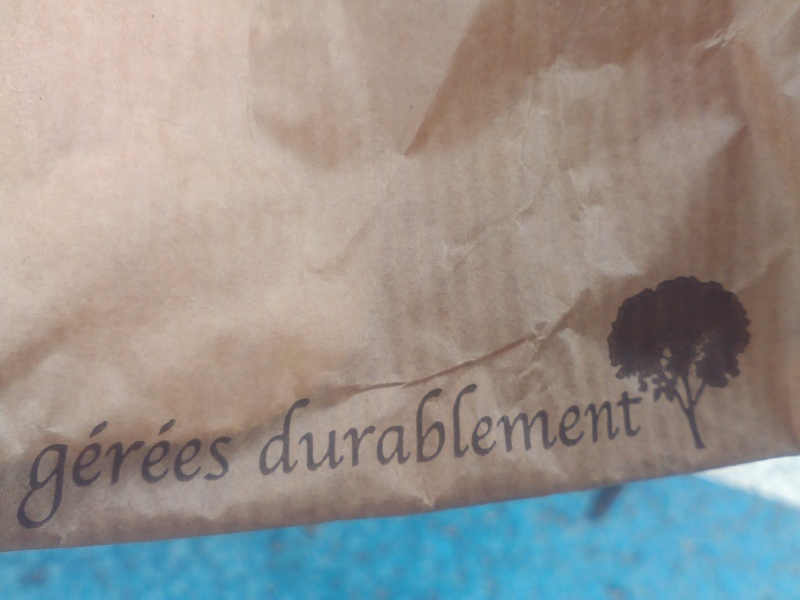text: (49, 415, 64, 533), (65, 415, 80, 533), (81, 415, 96, 533), (97, 415, 112, 533), (113, 415, 128, 533), (129, 415, 144, 533), (145, 415, 160, 533), (161, 415, 176, 533), (177, 415, 192, 533), (193, 415, 208, 533), (209, 415, 224, 533), (273, 368, 288, 483), (289, 368, 304, 483), (305, 368, 320, 483), (321, 368, 336, 483), (337, 368, 352, 483), (353, 368, 368, 483), (369, 368, 384, 483), (385, 368, 400, 483), (401, 368, 416, 483), (417, 368, 432, 483), (433, 368, 448, 483), (449, 368, 464, 483), (465, 368, 480, 483), (481, 368, 496, 483), (497, 368, 512, 483), (513, 368, 528, 483), (529, 368, 544, 483), (545, 368, 560, 483), (561, 368, 576, 483), (577, 368, 592, 483), (593, 368, 608, 483), (609, 368, 624, 483), (625, 368, 640, 483), (36, 415, 48, 533), (225, 415, 234, 533), (641, 368, 649, 483), (267, 368, 272, 483)
